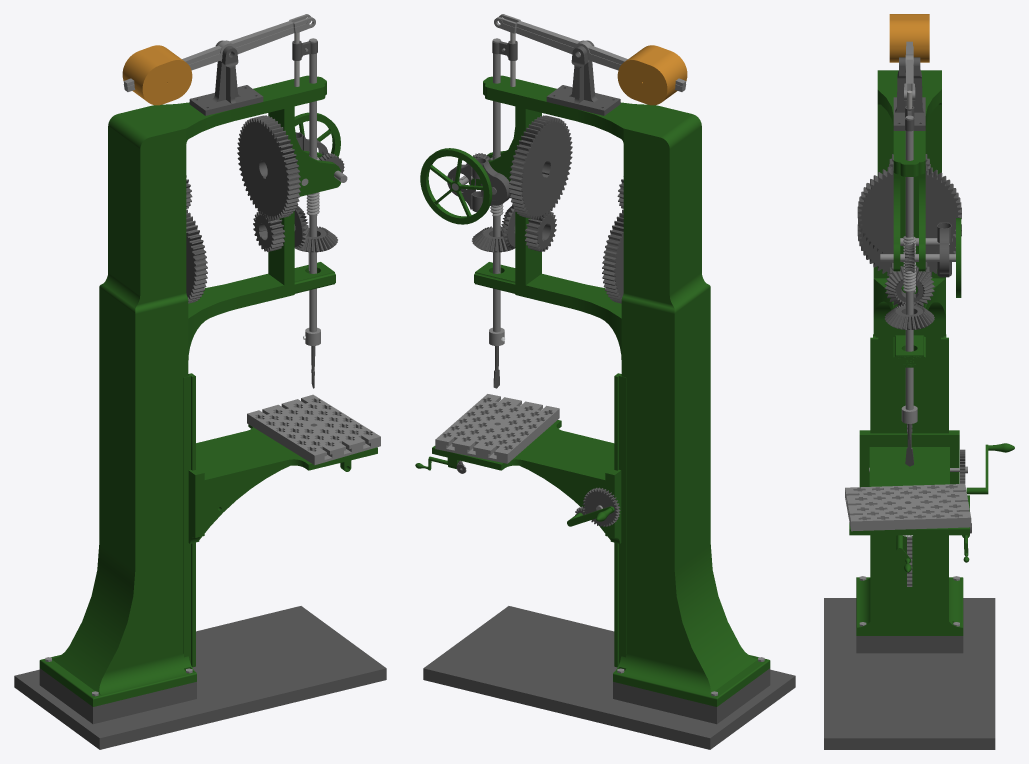
Rendered from Taladradora 1847 GLTF.gltf.
The picture shows the model from 3 angles, left to right: view 1: azimuth 30°, elevation 25°; view 2: azimuth 150°, elevation 25°; view 3: azimuth 270°, elevation 25°; orthographic projection.
Parts seen in each view (by area): view 1: Cortar-Extruir27, Cortar-Extruir5, Saliente-Extruir20, Cortar-Extruir7, Obj_Keyway_1_1, Obj_Cortar-Extruir2, Cortar-Extruir4, Cortar-Extruir2, Barrer1, Obj_Keyway_1, Obj_Keyway_2_1, Cortar-Extruir1 (+1 smaller); view 2: Cortar-Extruir27, Cortar-Extruir5, Saliente-Extruir20, Cortar-Extruir7, Obj_Keyway_1_1, Obj_Cortar-Extruir2, Cortar-Extruir1, Cortar-Extruir4, Cortar-Extruir2, Barrer1, Obj_Keyway_1, Simetría1 (+3 smaller); view 3: Cortar-Extruir27, Cortar-Extruir5, Saliente-Extruir20, Cortar-Extruir7, Obj_Keyway_1_1, Barrer1, Obj_Cortar-Extruir2, Cortar-Extruir4, Keyway, Obj_Keyway, Obj_Keyway_1, Simetría1 (+4 smaller).
Boxes of the visible parts, left/top/right/bottom form: Cortar-Extruir27: left=39, top=75, right=341, bottom=706; Cortar-Extruir5: left=14, top=606, right=386, bottom=749; Saliente-Extruir20: left=188, top=424, right=377, bottom=543; Cortar-Extruir7: left=247, top=394, right=380, bottom=465; Obj_Keyway_1_1: left=237, top=115, right=300, bottom=219; Obj_Cortar-Extruir2: left=122, top=45, right=192, bottom=105; Cortar-Extruir4: left=189, top=40, right=263, bottom=115; Cortar-Extruir2: left=123, top=14, right=315, bottom=91; Barrer1: left=305, top=38, right=320, bottom=345; Obj_Keyway_1: left=186, top=209, right=207, bottom=303; Obj_Keyway_2_1: left=253, top=211, right=285, bottom=251; Cortar-Extruir1: left=294, top=112, right=340, bottom=157; Cortar-Extruir27: left=468, top=75, right=770, bottom=706; Cortar-Extruir5: left=423, top=606, right=795, bottom=749; Saliente-Extruir20: left=432, top=420, right=621, bottom=543; Cortar-Extruir7: left=435, top=394, right=559, bottom=463; Obj_Keyway_1_1: left=509, top=115, right=572, bottom=219; Obj_Cortar-Extruir2: left=617, top=45, right=687, bottom=105; Cortar-Extruir1: left=420, top=148, right=492, bottom=224; Cortar-Extruir4: left=546, top=40, right=620, bottom=115; Cortar-Extruir2: left=494, top=14, right=686, bottom=91; Barrer1: left=489, top=38, right=504, bottom=345; Obj_Keyway_1: left=602, top=209, right=623, bottom=303; Simetría1: left=447, top=157, right=511, bottom=212; Cortar-Extruir27: left=856, top=70, right=963, bottom=635; Cortar-Extruir5: left=824, top=598, right=995, bottom=749; Saliente-Extruir20: left=849, top=430, right=969, bottom=537; Cortar-Extruir7: left=845, top=484, right=971, bottom=531; Obj_Keyway_1_1: left=857, top=165, right=961, bottom=253; Barrer1: left=901, top=115, right=917, bottom=423; Obj_Cortar-Extruir2: left=889, top=14, right=929, bottom=62; Cortar-Extruir4: left=893, top=57, right=925, bottom=130; Keyway: left=884, top=265, right=934, bottom=306; Obj_Keyway: left=884, top=304, right=934, bottom=329; Obj_Keyway_1: left=857, top=223, right=961, bottom=275; Simetría1: left=937, top=222, right=951, bottom=277.
Size of the model in its own units: 1.38 by 2.65 by 0.713.
